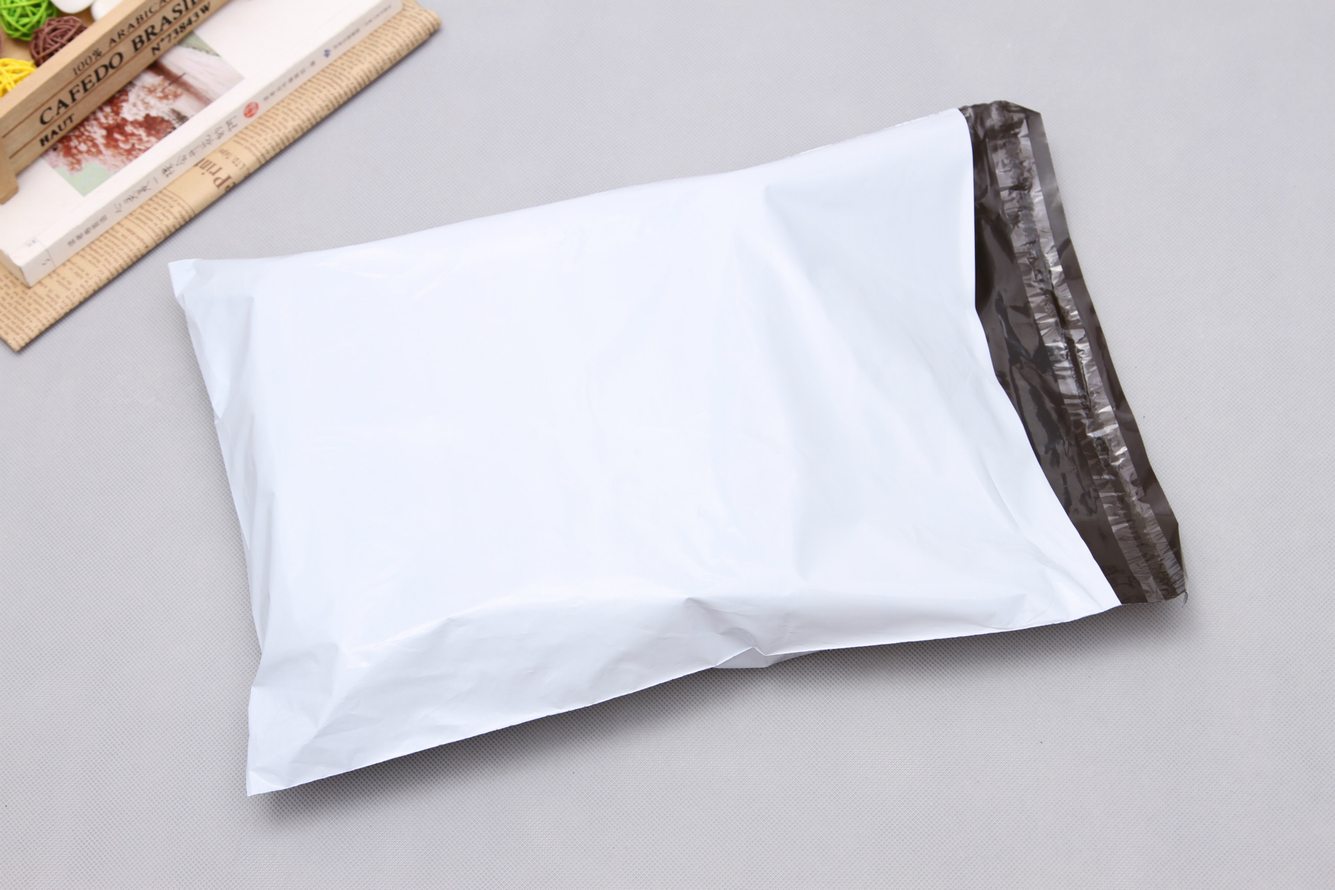塑料袋: (164, 90, 1203, 846)
